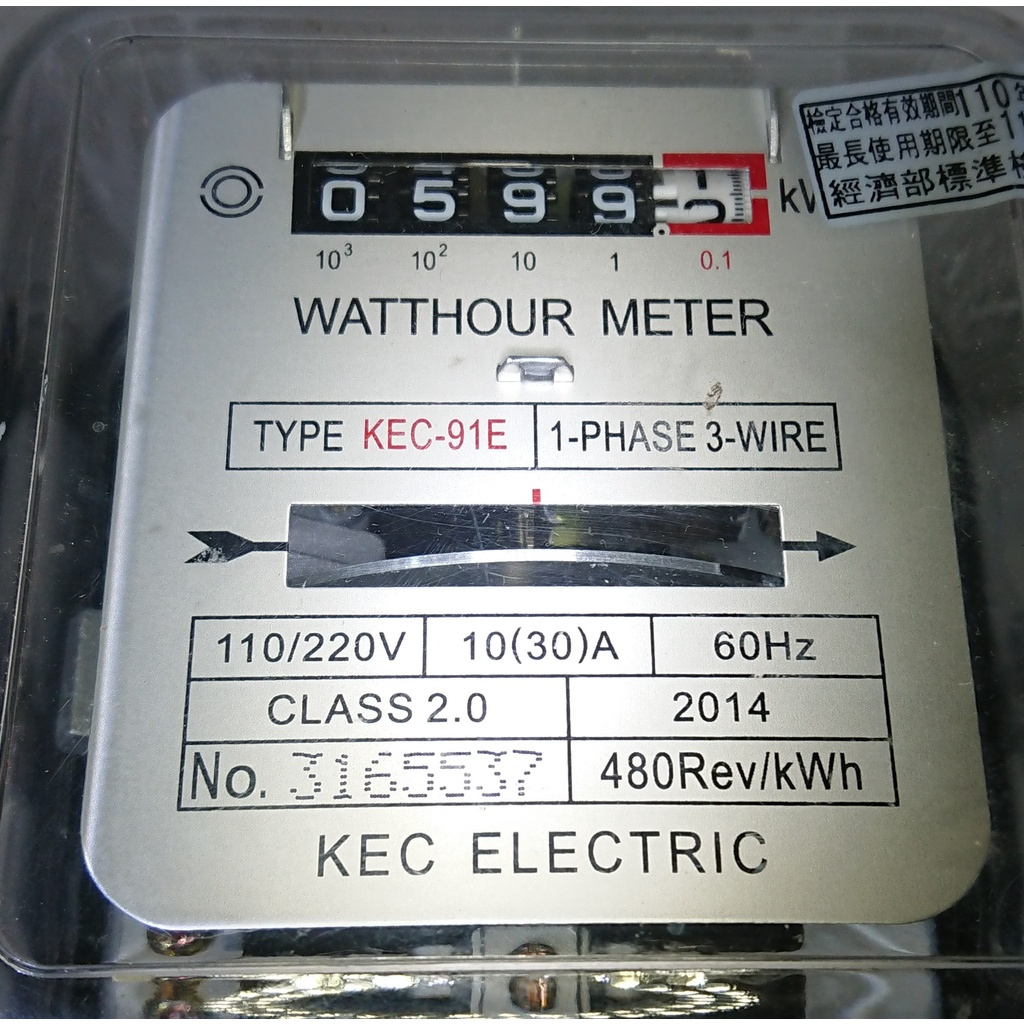show: (293, 157, 768, 240)
